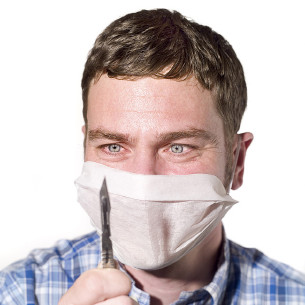face_mask: (82, 66, 222, 269)
